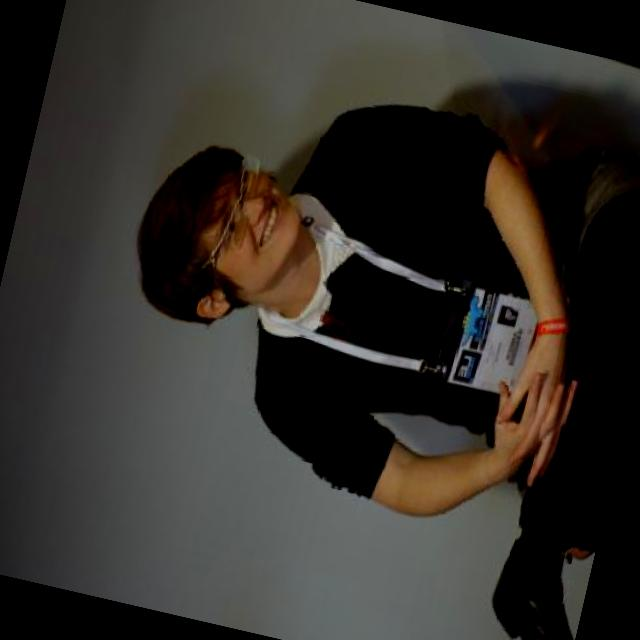Person: (80, 23, 640, 621)
